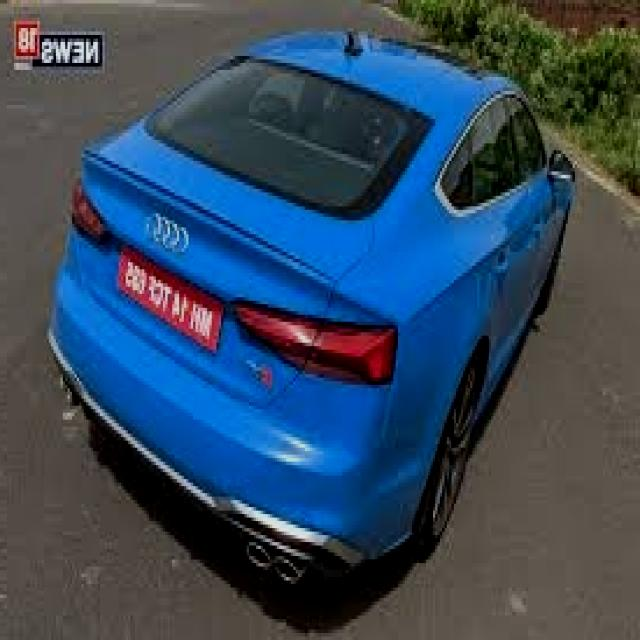blue: (39, 36, 571, 584)
